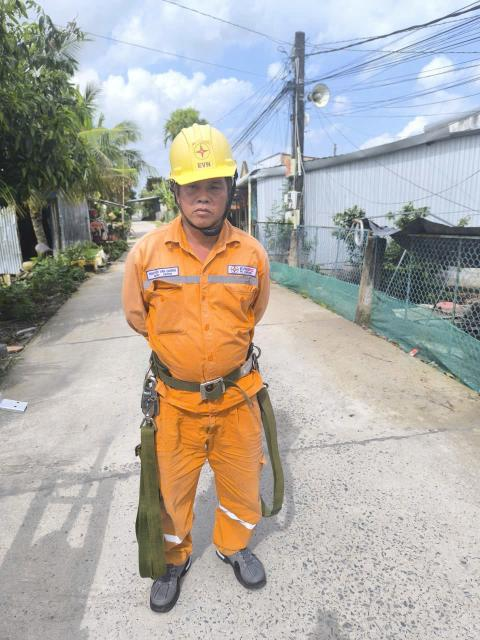harness: (137, 341, 272, 406)
helmet: (139, 120, 245, 187)
shoes: (198, 533, 273, 598), (142, 544, 203, 621)
